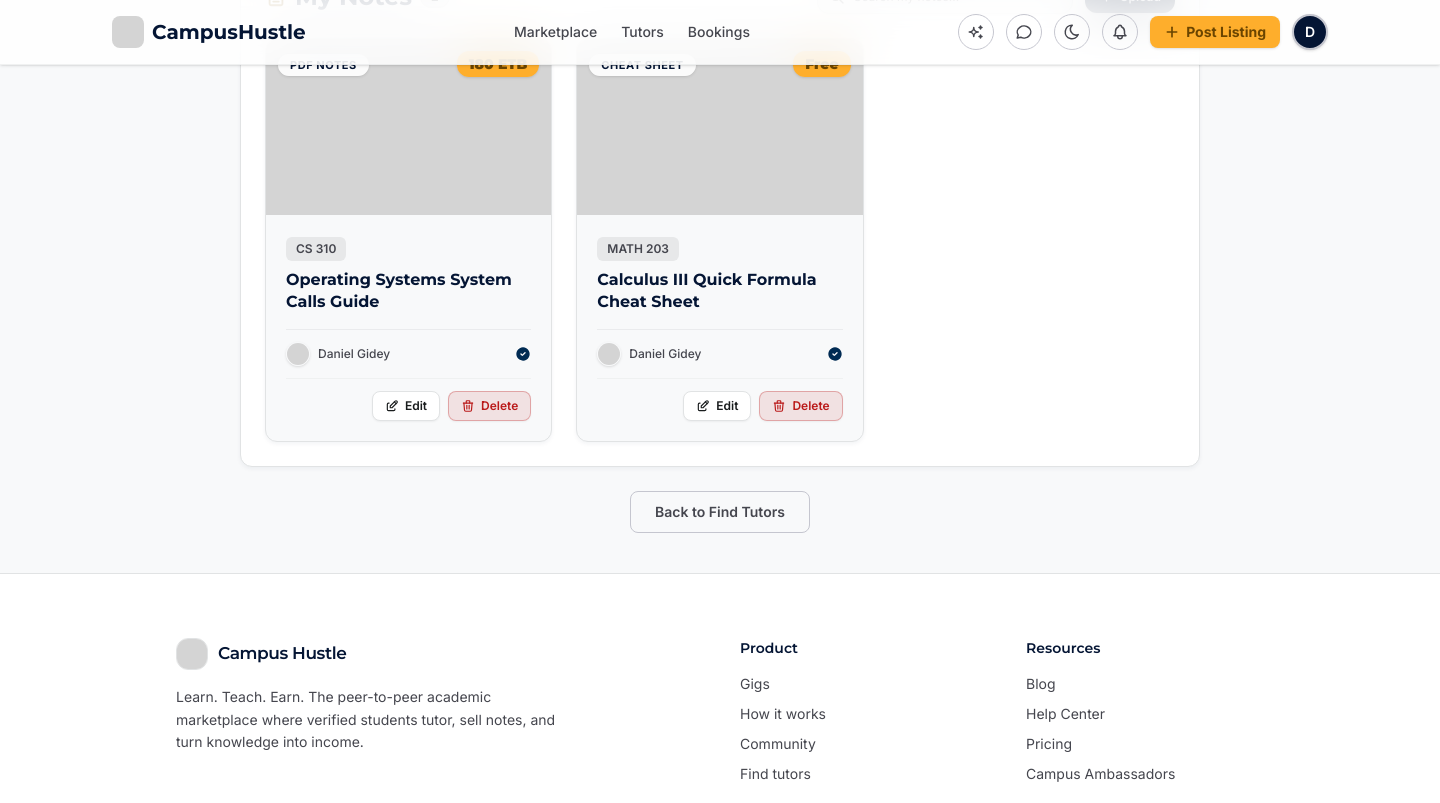
Test: ProfileScreen My Notes Section (View, Edit, Delete) › confirms note deletion in modal, removes note from list, and displays feedback toast
The width and height of the screenshot is (1440, 803).
(page scrolled)
# Click delete on first note
Step 1. Click the button named "Delete Operating Systems System Calls Guide" → (490, 406), box [448,391,531,421]
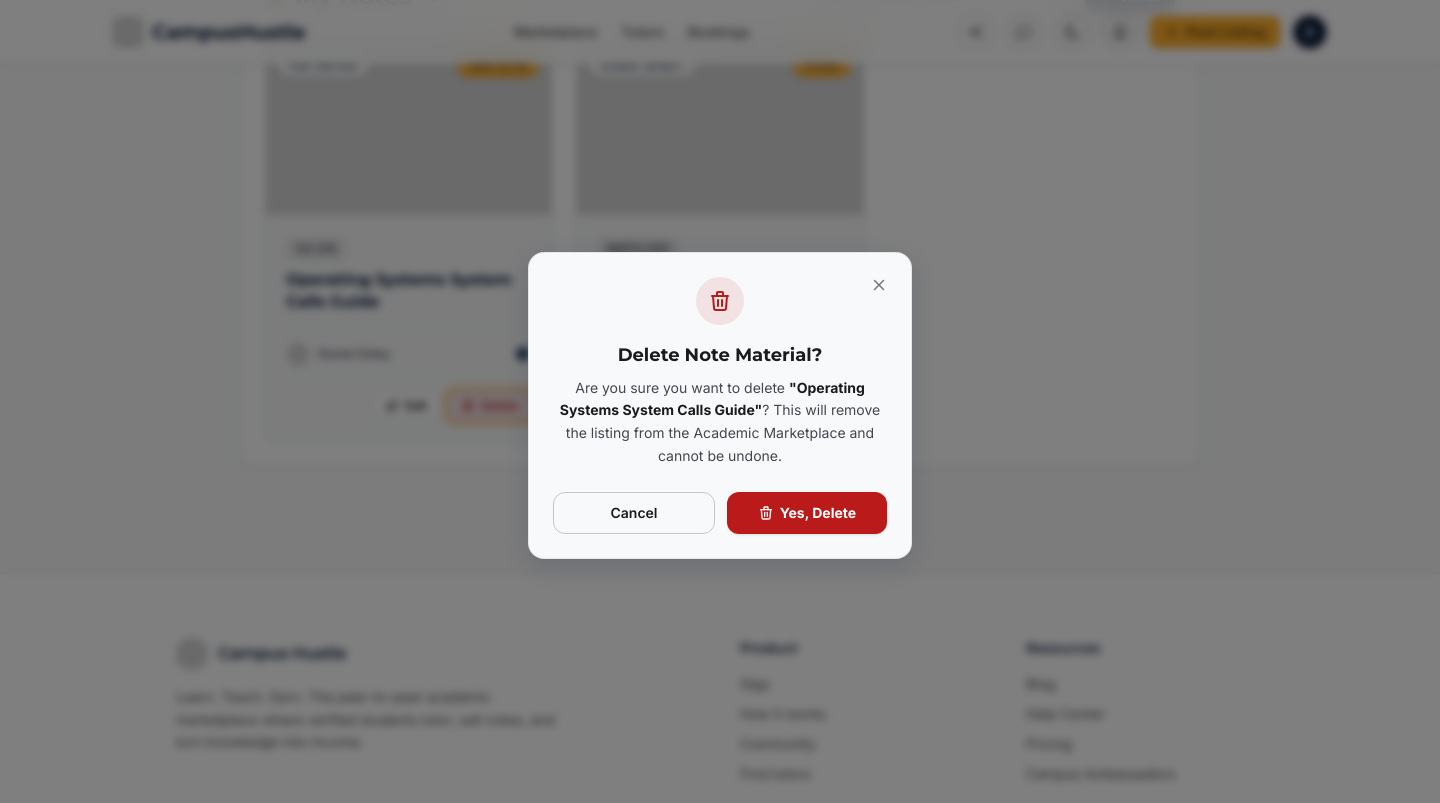
# Click confirm delete
Step 2. Click the button "Yes, Delete" → (807, 512), box [727,492,887,534]
(page scrolled)
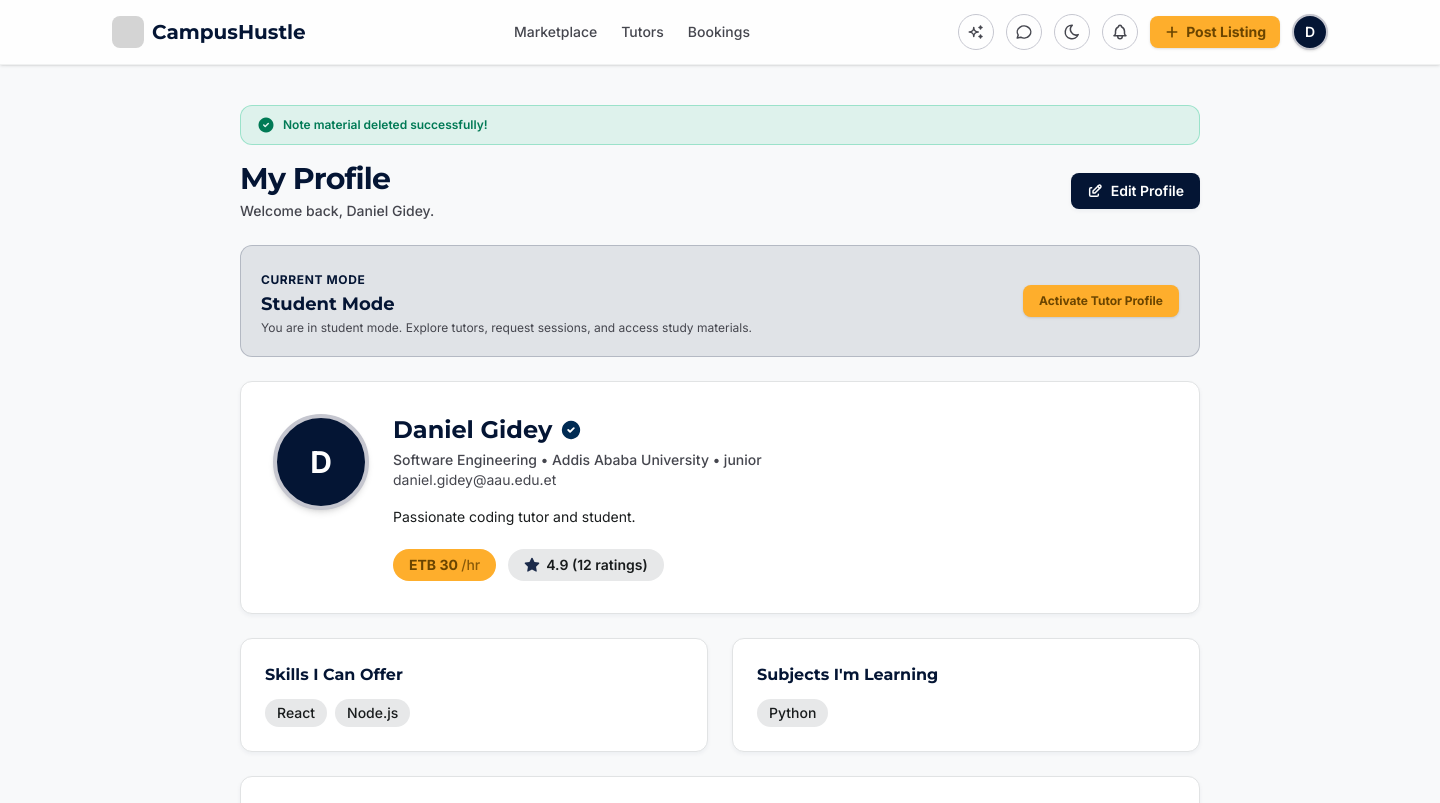
Expected: the dialog is gone
Expected: the heading "Operating Systems System Calls Guide" is gone
Expected: the text "Note material deleted successfully!" is shown, [283,117,488,132]
